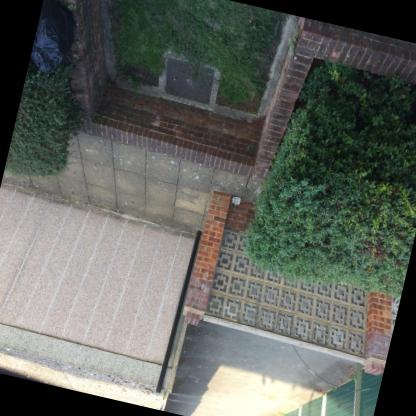Paper: (231, 195, 240, 204)
Plastic: (28, 0, 75, 74)
